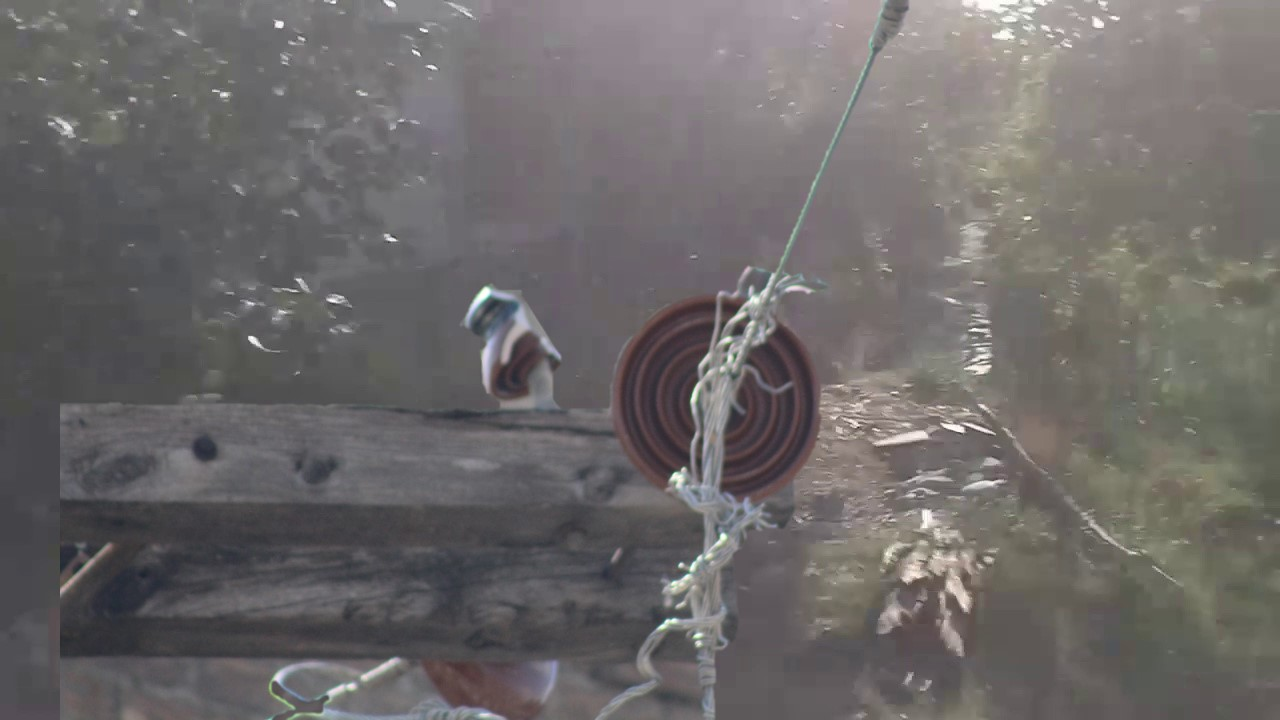defect_pin: (461, 276, 571, 409)
insulator_disc: (607, 290, 825, 527)
